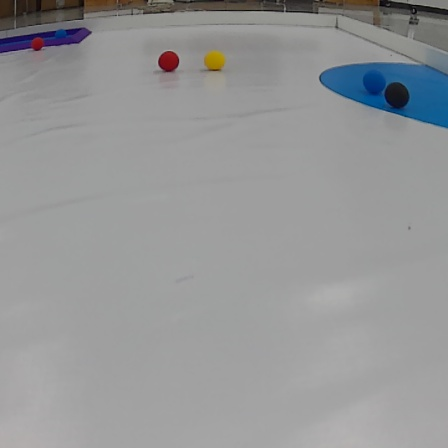blue: (364, 72, 384, 95), (55, 28, 67, 40)
blue_aim: (0, 23, 90, 51)
blue_base: (316, 56, 448, 133)
red: (159, 49, 181, 74), (28, 35, 44, 52)
yellow: (201, 49, 228, 72)
